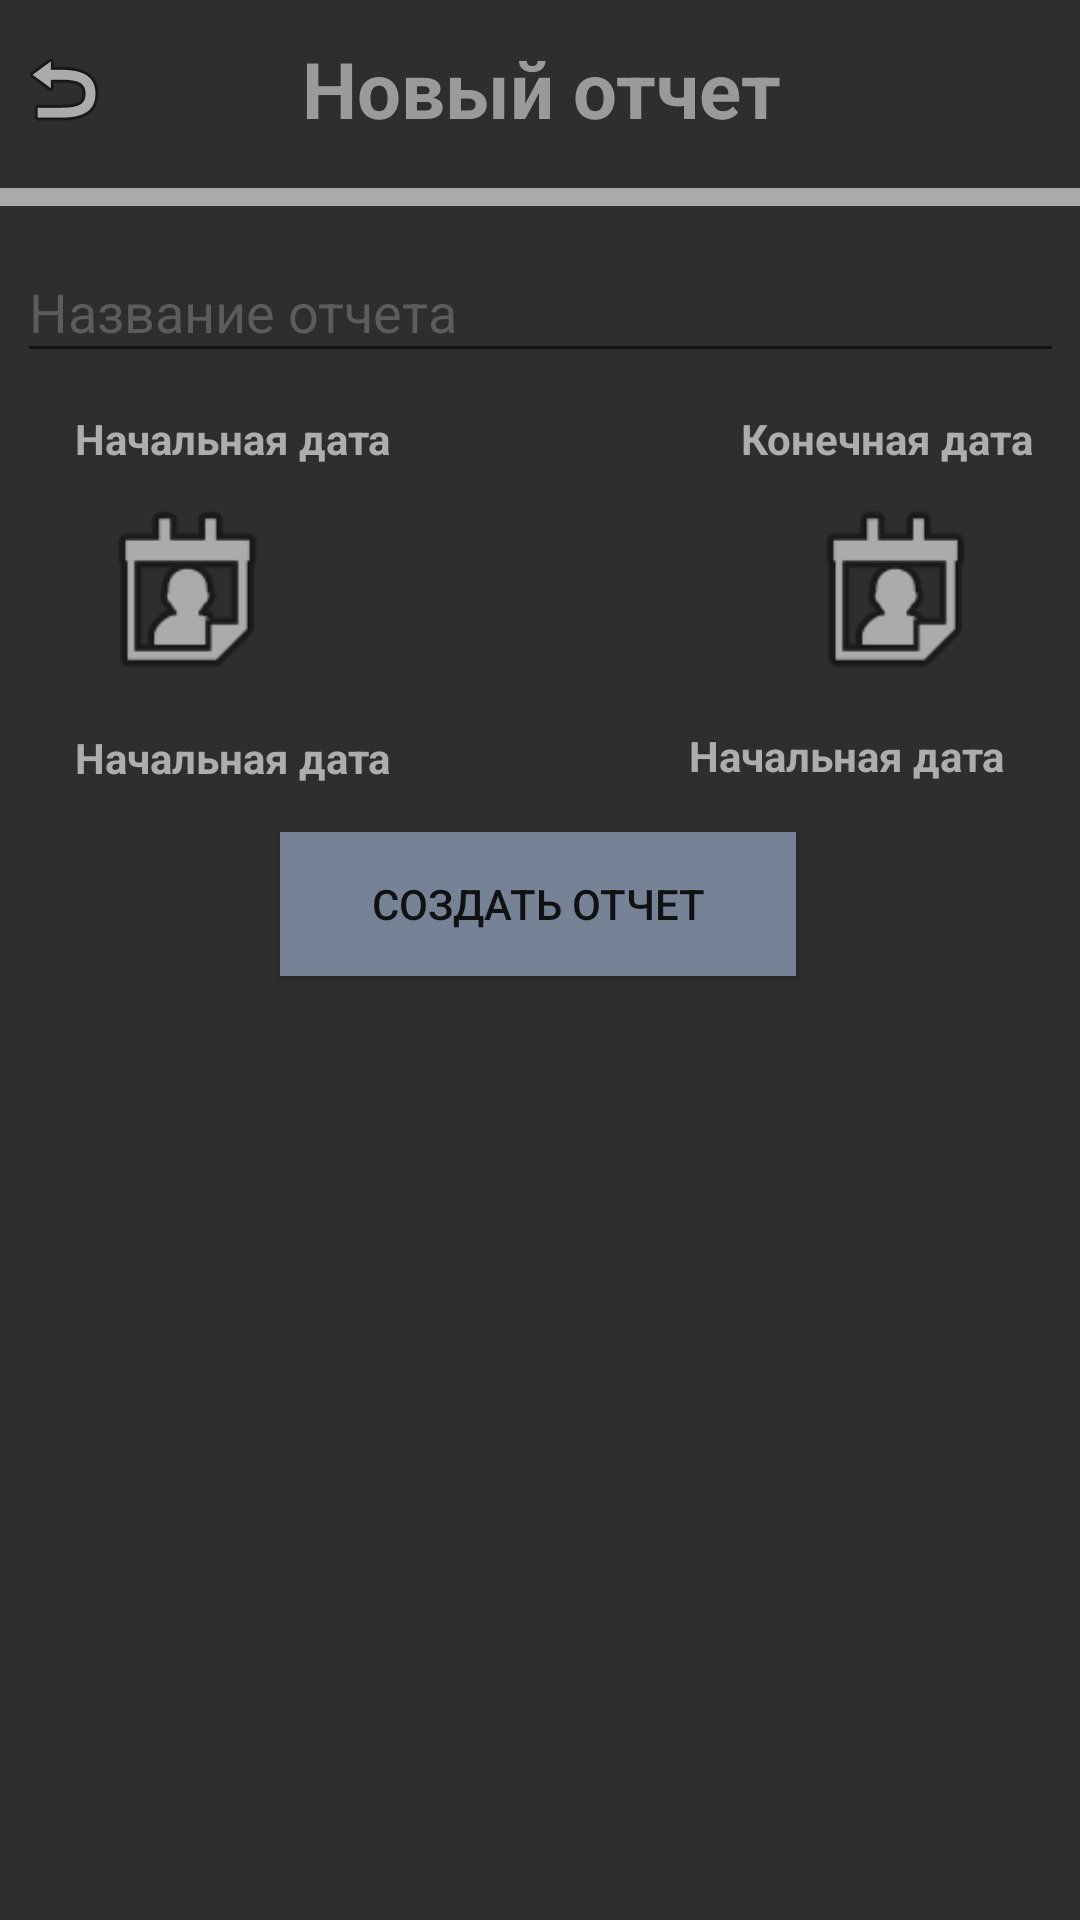

Screen size 1080 × 1920. Icon name, then its center in pixels as point (x, y):
calendar: point (187, 590), point (895, 590)
revert: point (64, 89)
